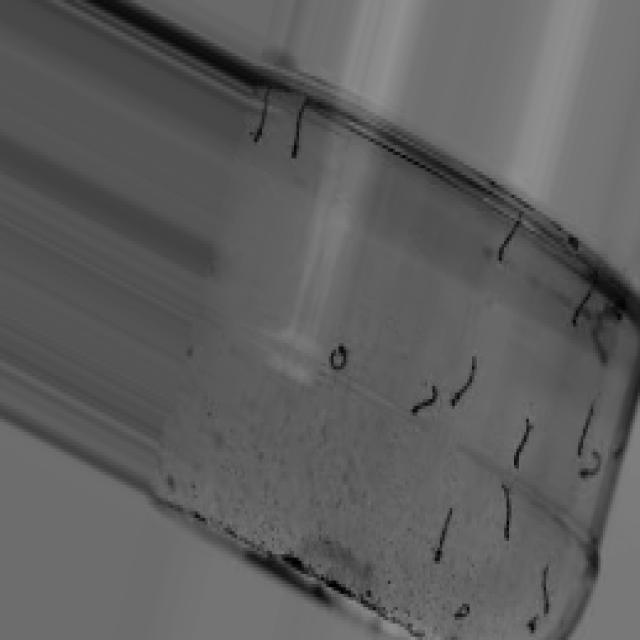larvas: (444, 353, 486, 412), (509, 414, 536, 474), (577, 449, 606, 488), (253, 88, 272, 144), (292, 99, 310, 158), (435, 504, 452, 562), (410, 384, 437, 419), (498, 220, 520, 261), (574, 278, 593, 325), (576, 405, 593, 457), (588, 329, 608, 362), (502, 481, 512, 543), (330, 343, 349, 372), (598, 310, 624, 330), (542, 566, 551, 614), (456, 604, 469, 620), (528, 616, 538, 635)
